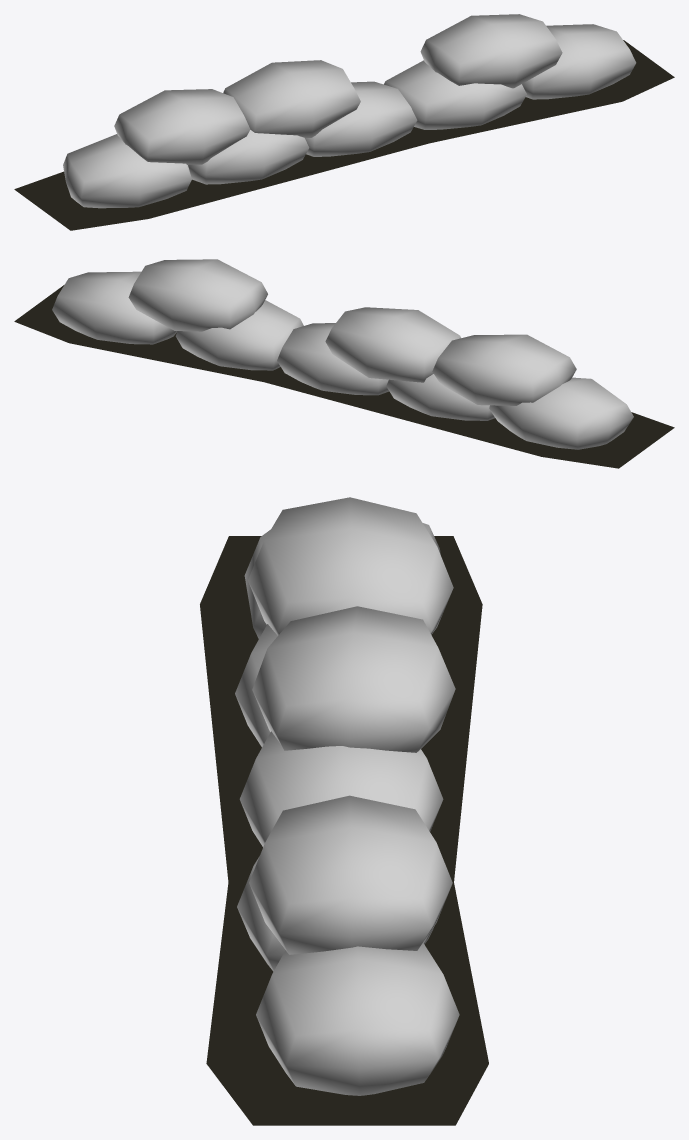
Rendered from Sandbag_02.FBX.
3 views of the same model, one above another, from view 1: azimuth 30°, elevation 25°; view 2: azimuth 150°, elevation 25°; view 3: azimuth 270°, elevation 25° (orthographic). The views are drawn at different scales.
Visible parts, largest first — view 1: sandbag_002, Plane029; view 2: sandbag_002, Plane029; view 3: sandbag_002, Plane029.
Boxes of the visible parts, <box> form: sandbag_002: <box>63,14,636,208</box>; Plane029: <box>14,40,674,230</box>; sandbag_002: <box>52,259,633,449</box>; Plane029: <box>14,285,674,468</box>; sandbag_002: <box>235,497,459,1095</box>; Plane029: <box>200,536,488,1125</box>.
Bounding box in the file's own units: 501 × 66.48 × 104.
